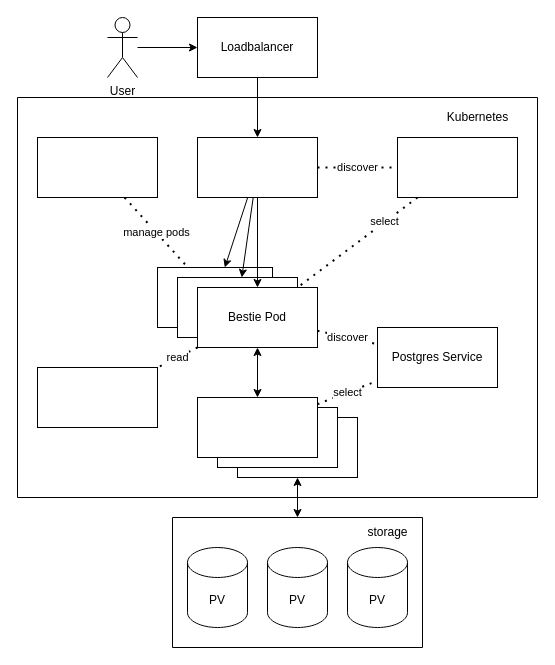
This 555x665 diagram has some shape labels left out. Here are the shapes that lost their labels. From the top down, the box of each, then its label:
(36, 136, 158, 198): Deployment
(196, 136, 318, 198): Ingress
(396, 136, 518, 198): Bestie Service
(36, 366, 158, 428): Secrets
(196, 396, 318, 458): Postgres Pods
